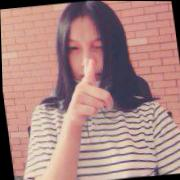WRONG: (60, 28, 120, 96)
